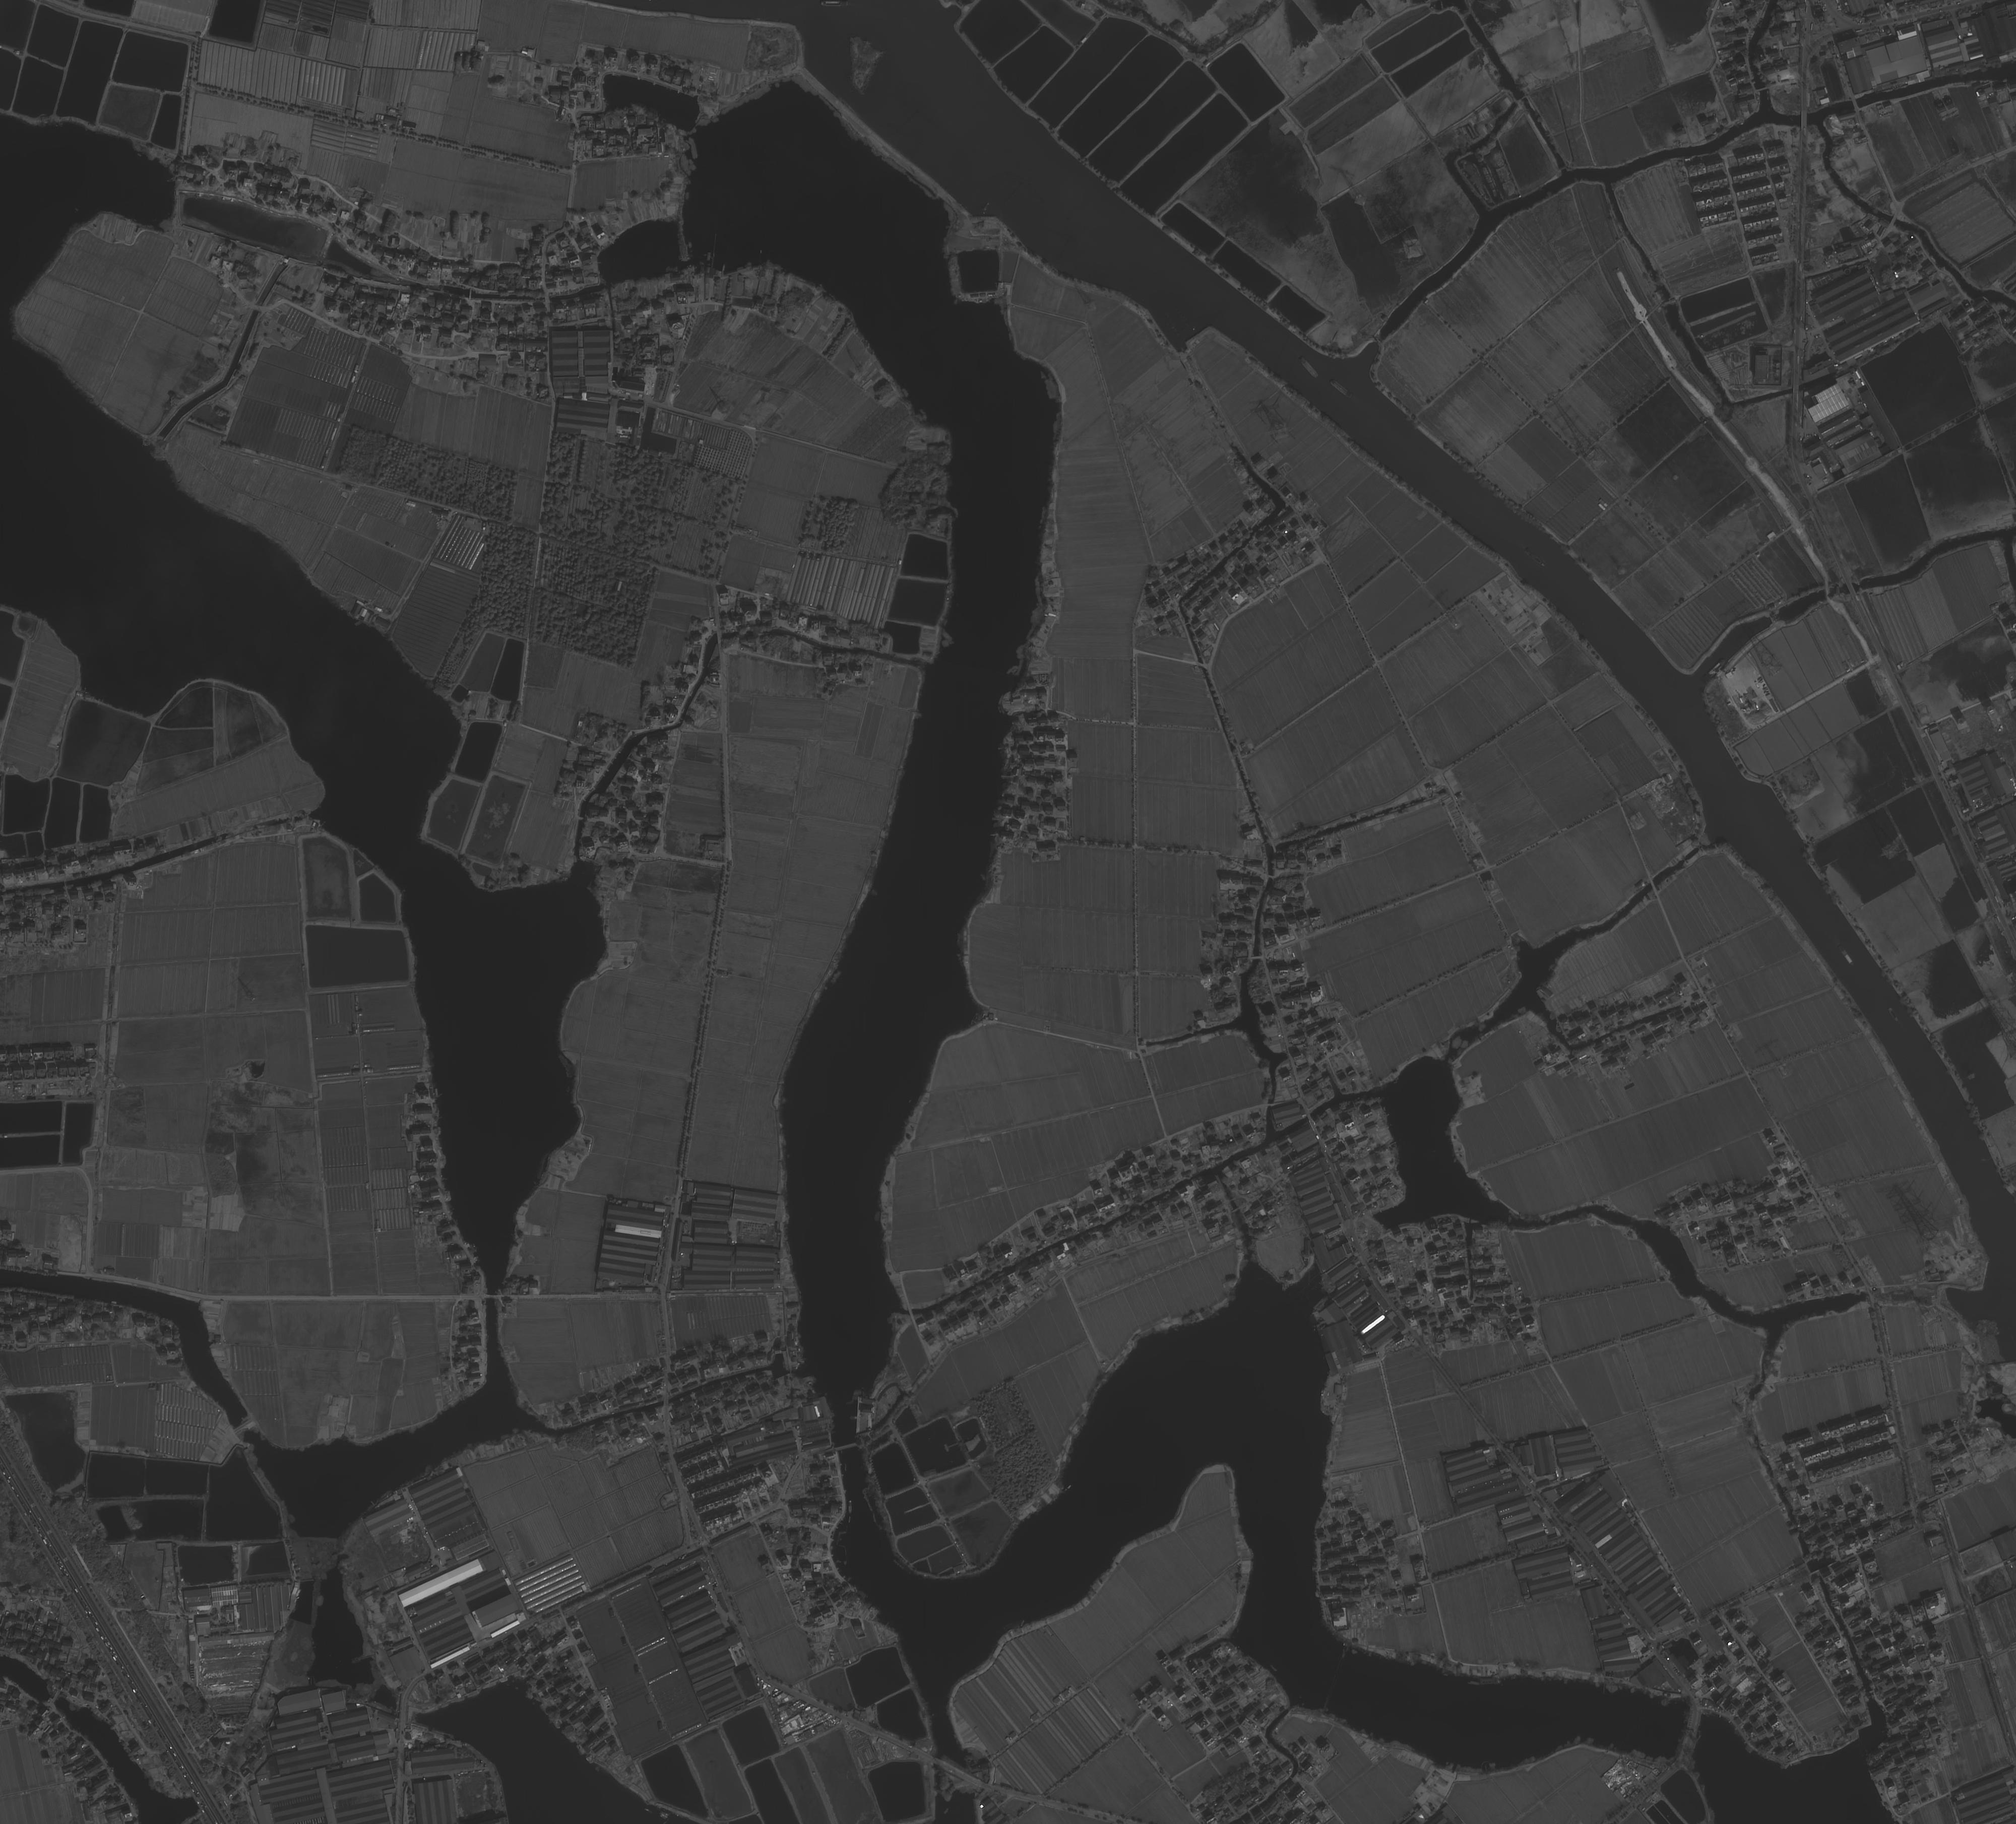ship: (1524, 547, 1549, 570), (1704, 659, 1727, 682), (1330, 378, 1354, 399), (1299, 355, 1319, 379)
